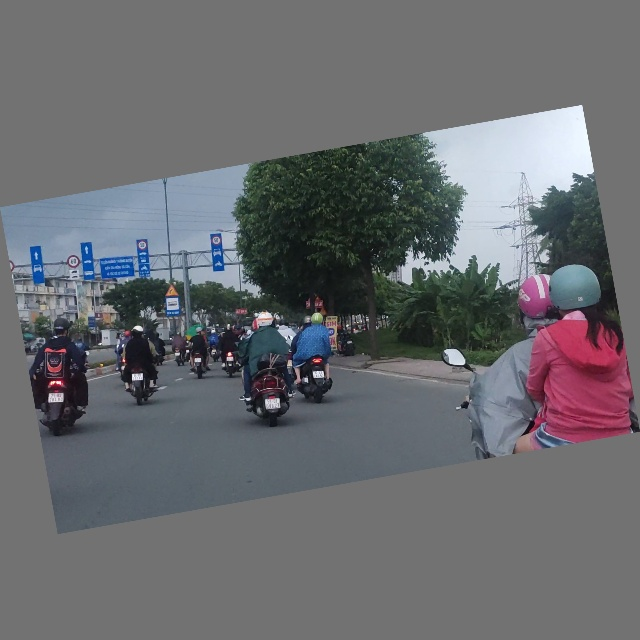I.434a: (163, 296, 182, 318)
P.127*50: (211, 236, 222, 247), (137, 240, 148, 251)
P.127*60: (66, 255, 80, 269)
S.505a*Xe tai va cong: (68, 269, 81, 283)
W.201b: (163, 284, 179, 299)
